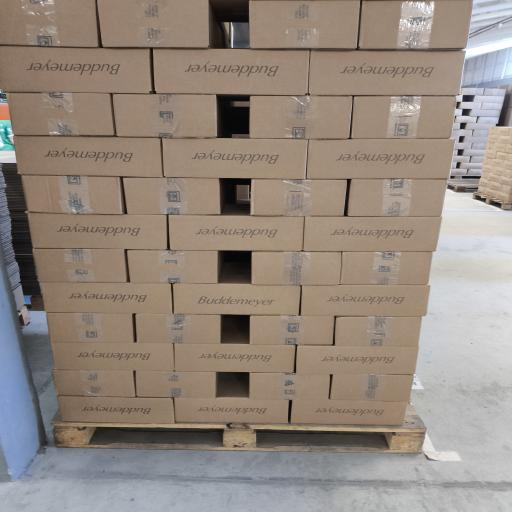pallet: (52, 405, 425, 453), (473, 193, 511, 210), (448, 179, 479, 192), (18, 305, 30, 328), (29, 296, 44, 310)
